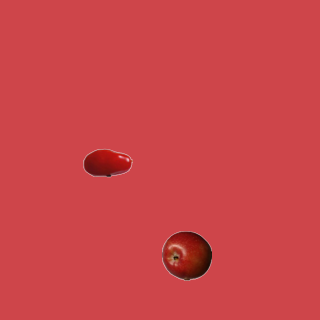Apple Braeburn: (161, 230, 211, 280)
Tomato 2: (82, 137, 132, 187)
